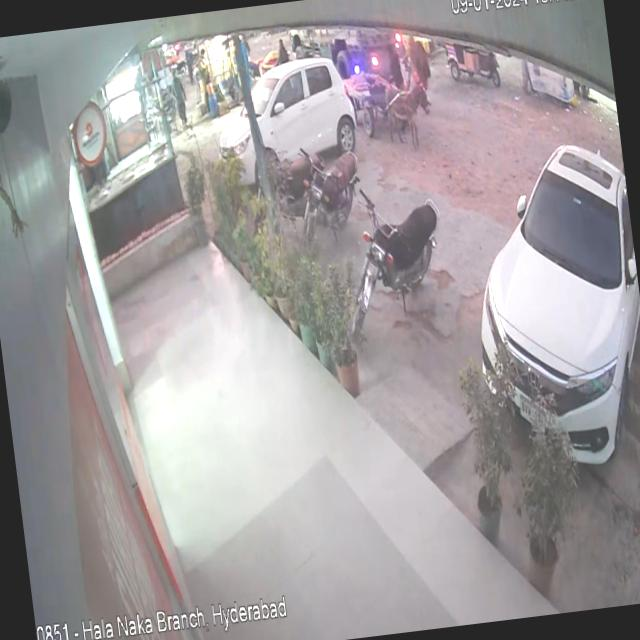Car: (447, 92, 640, 489), (188, 40, 364, 178)
Motorcycle: (332, 167, 460, 341), (296, 139, 372, 237)
